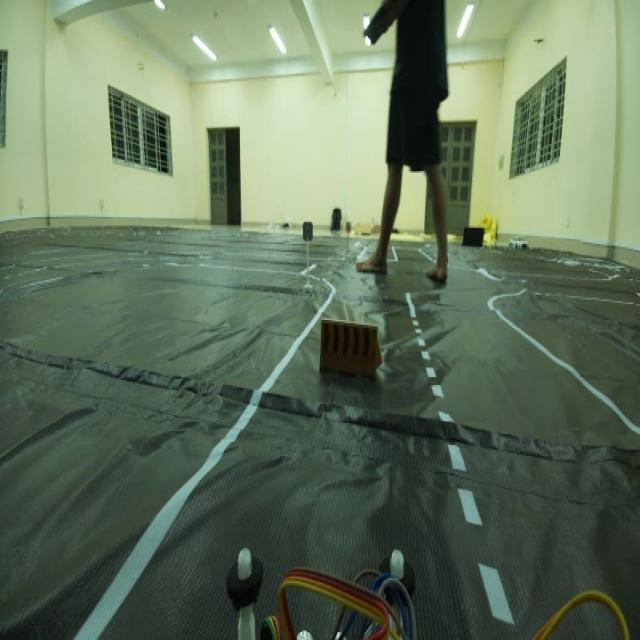roadblock: (315, 302, 397, 409)
